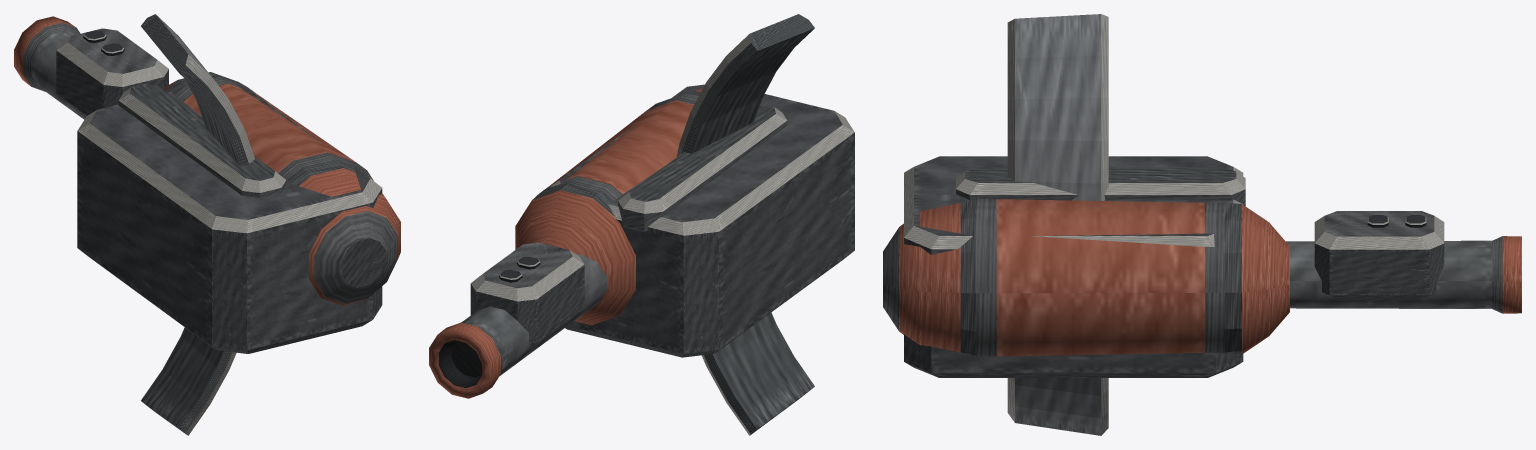
Rendered from FlameThrower.glb.
3 views of the same model, side by side, from view 1: azimuth 30°, elevation 25°; view 2: azimuth 150°, elevation 25°; view 3: azimuth 270°, elevation 25° (orthographic). The views are drawn at different scales.
Parts seen in each view (by area): view 1: FlameThrower; view 2: FlameThrower; view 3: FlameThrower.
Boxes of the visible parts, left/top/right/bottom form: FlameThrower: left=14, top=14, right=400, bottom=435; FlameThrower: left=429, top=14, right=854, bottom=435; FlameThrower: left=883, top=14, right=1521, bottom=435.
Size of the model in its own units: 0.1918 by 0.3775 by 0.518.
Materials: 1 (1 with a texture image).
